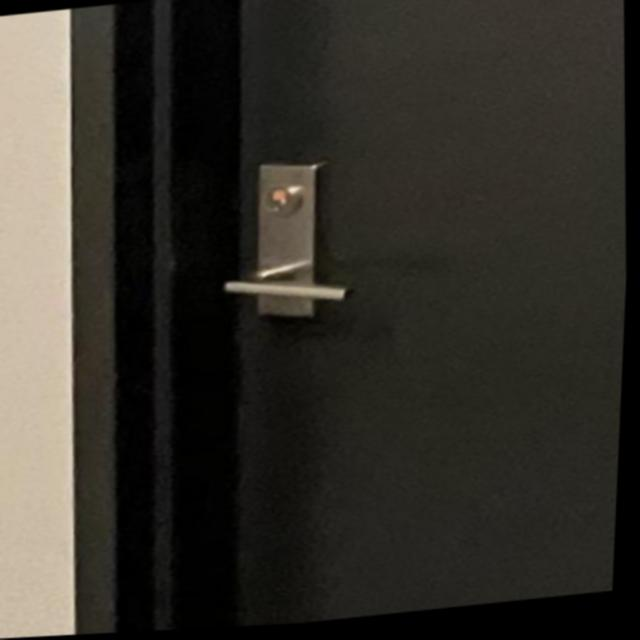door_handle: (195, 243, 379, 352)
